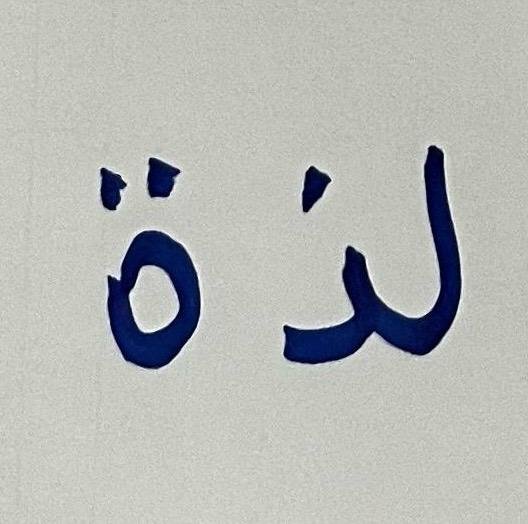lam: (386, 108, 515, 423)
teh_marbota: (65, 130, 252, 400)
thal: (261, 119, 381, 397)
